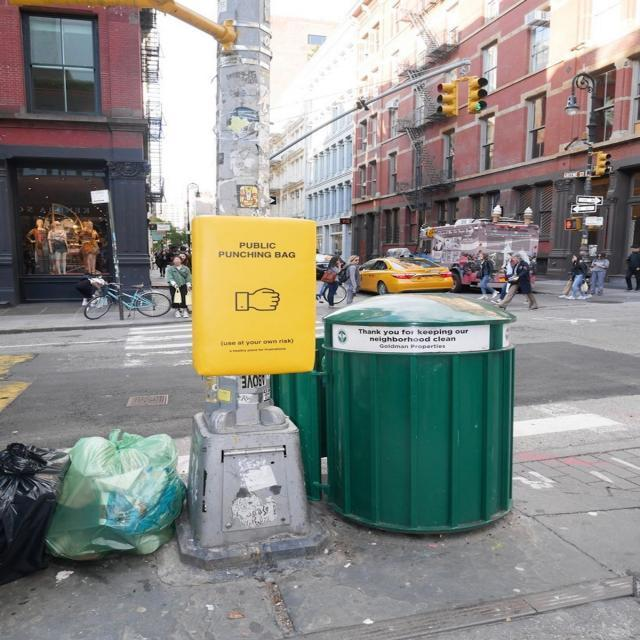garbage: (0, 427, 190, 587)
